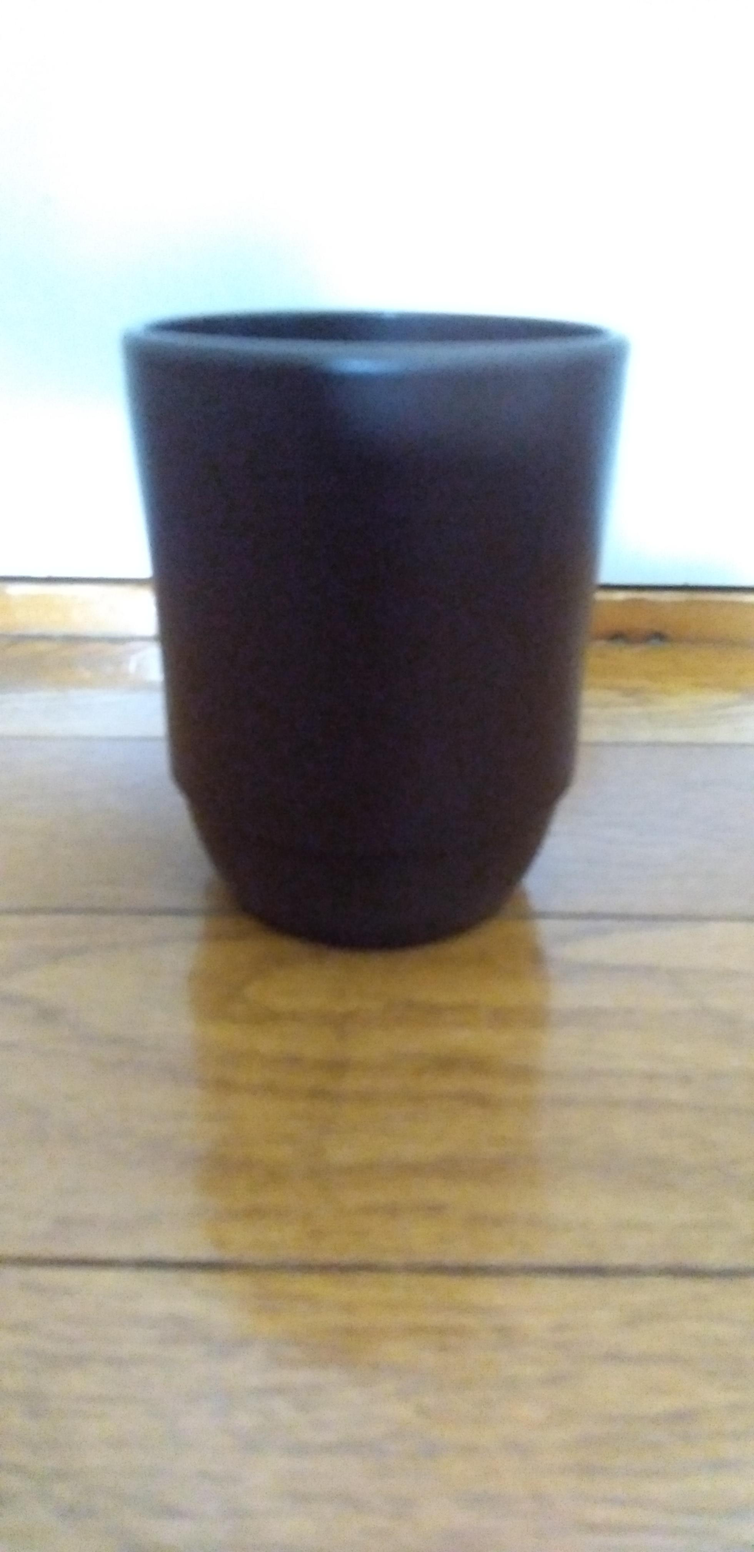mug-real100-3d100: (123, 311, 628, 948)
